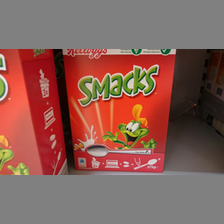cereal: (61, 49, 175, 173)
